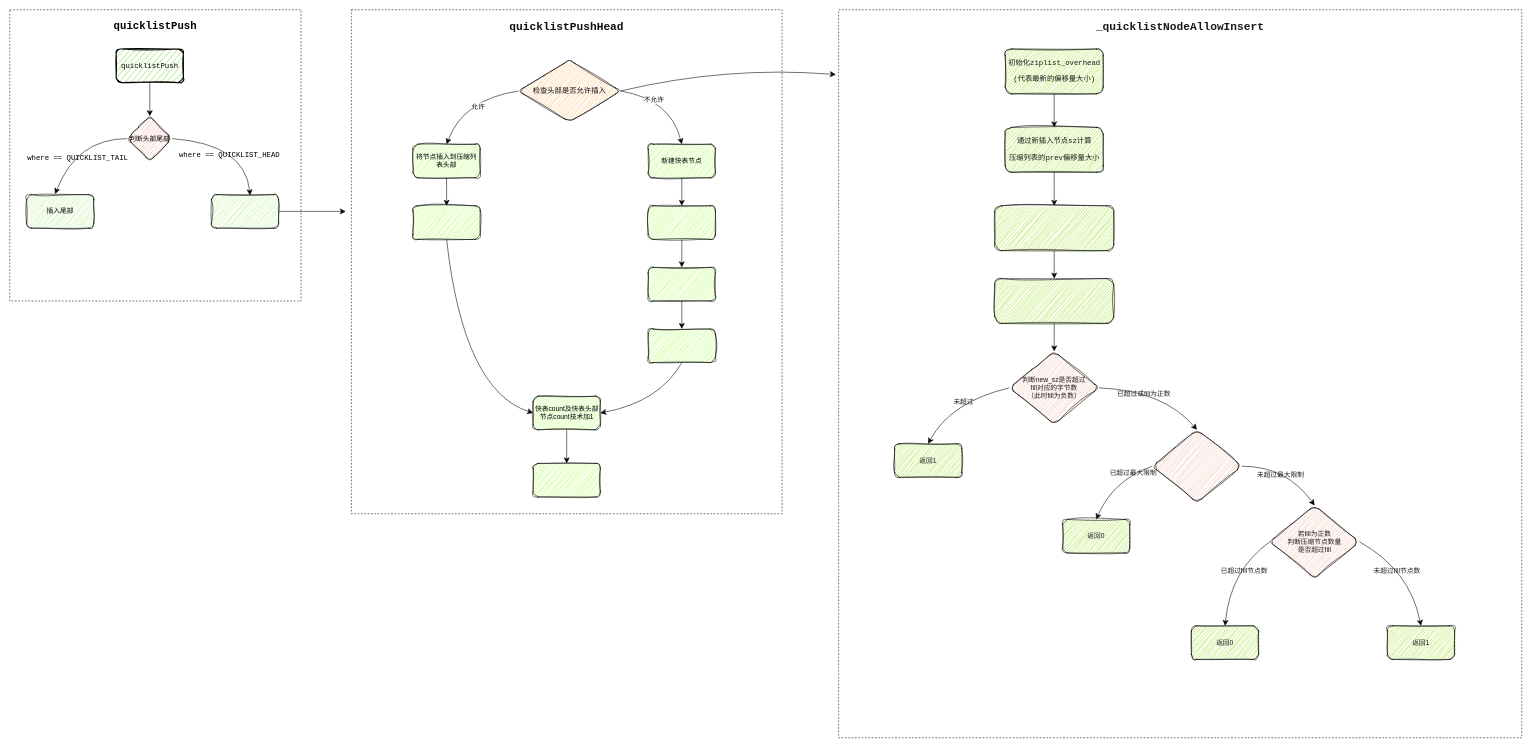
Image size: 1532x748. Some labels were removed from this diagram. The centre of each missing label's shape, as x and y in pixels:
"判断新节点是否插入成功" belongs at [566,480].
"将新快表节点插入到快表头部" belongs at [681,345].
"插入头部" belongs at [245,211].
"新建压缩列表插入到新节点的头部" belongs at [681,222].
"更新压缩列表长度 sz" belongs at [681,284].
"更新头结点压缩列表大小 sz" belongs at [446,222].
"继续判断new_sz 是否超过最大限制 8192" belongs at [1197,466].
"计算最新new_sz大小 node-> sz + sz + ziplist_overhead" belongs at [1054,300].
"通过新插入节点sz计算 压缩列表的encoding偏移量大小" belongs at [1054,228].
